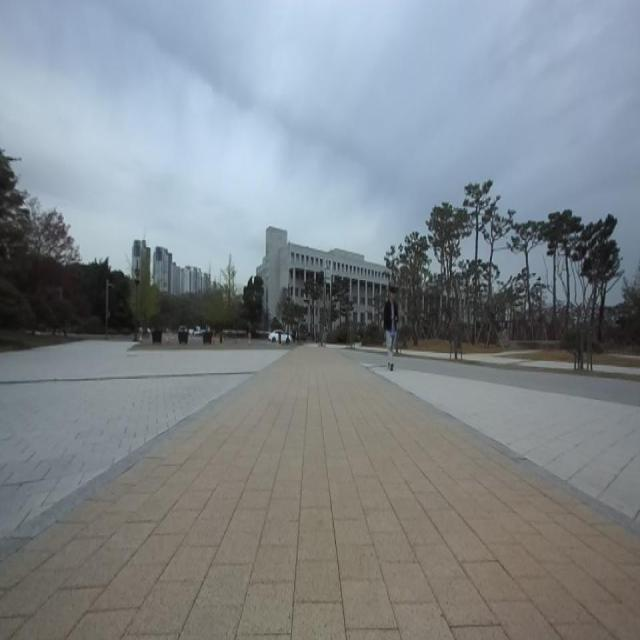sidewalk: (0, 346, 640, 639), (464, 353, 574, 372), (595, 364, 640, 381), (407, 349, 450, 359)
